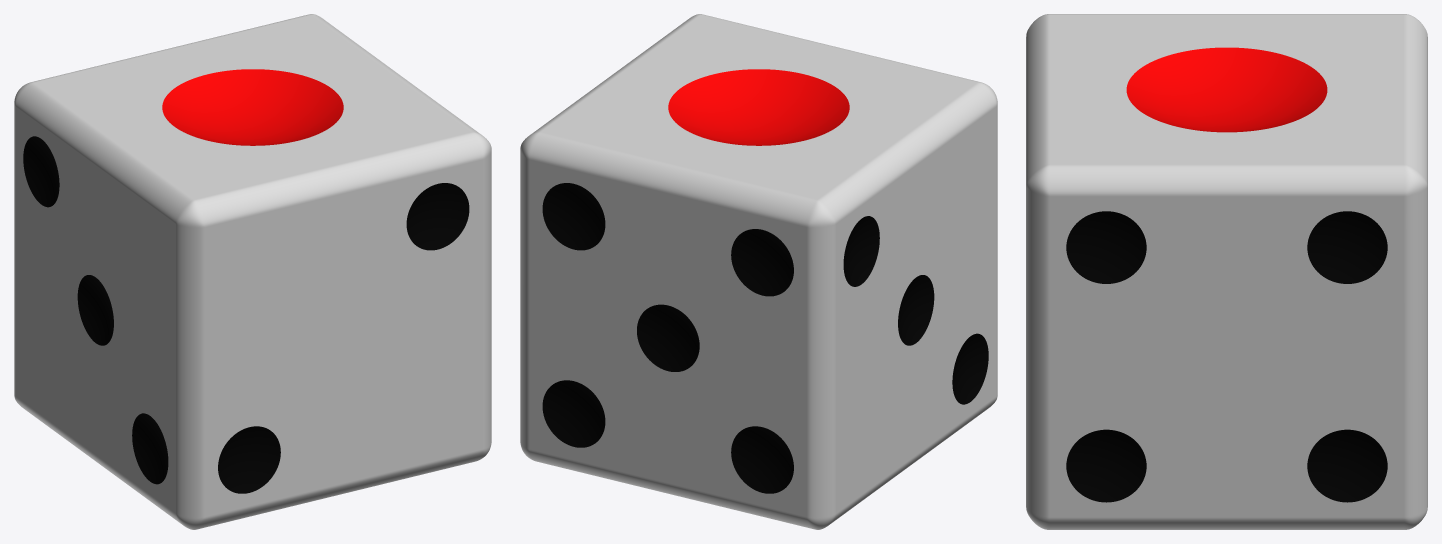
File: D6 simple.dae
3 renders of one model, left to right at view 1: azimuth 30°, elevation 25°; view 2: azimuth 150°, elevation 25°; view 3: azimuth 270°, elevation 25°, orthographic. The views are drawn at different scales.
Parts seen in each view (by area): view 1: ID2; view 2: ID2; view 3: ID2.
Part boxes in pixels (x1,y1,x2,y2): ID2: (14, 14, 491, 529); ID2: (520, 14, 997, 529); ID2: (1026, 14, 1427, 529).
Size of the model in its own units: 0.5 by 0.5 by 0.5.
